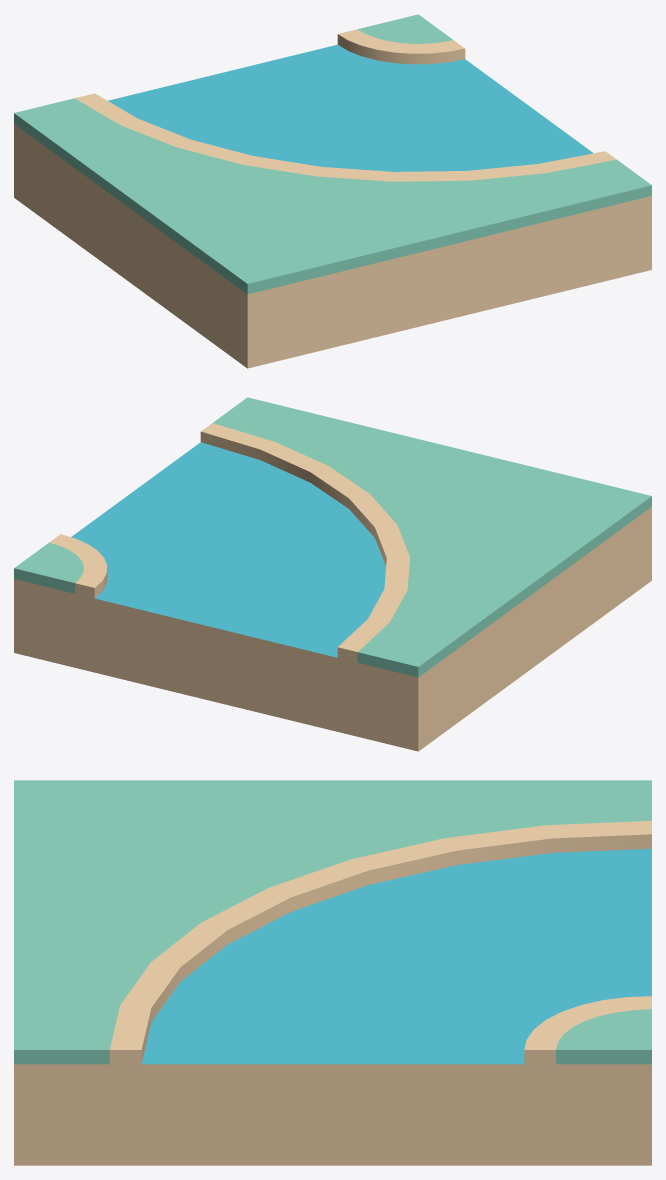
The model's file is Water_Corner.fbx.
The picture shows the model from 3 angles, top to bottom: view 1: azimuth 30°, elevation 25°; view 2: azimuth 150°, elevation 25°; view 3: azimuth 270°, elevation 25°; orthographic projection. The views are drawn at different scales.
Visible parts, largest first — view 1: Water_Corner; view 2: Water_Corner; view 3: Water_Corner.
Boxes of the visible parts, x1,y1,x2,y2 form: Water_Corner: [14, 14, 651, 368]; Water_Corner: [14, 397, 651, 751]; Water_Corner: [14, 780, 651, 1165].
Bounding box in the file's own units: 1 × 0.2 × 1.
